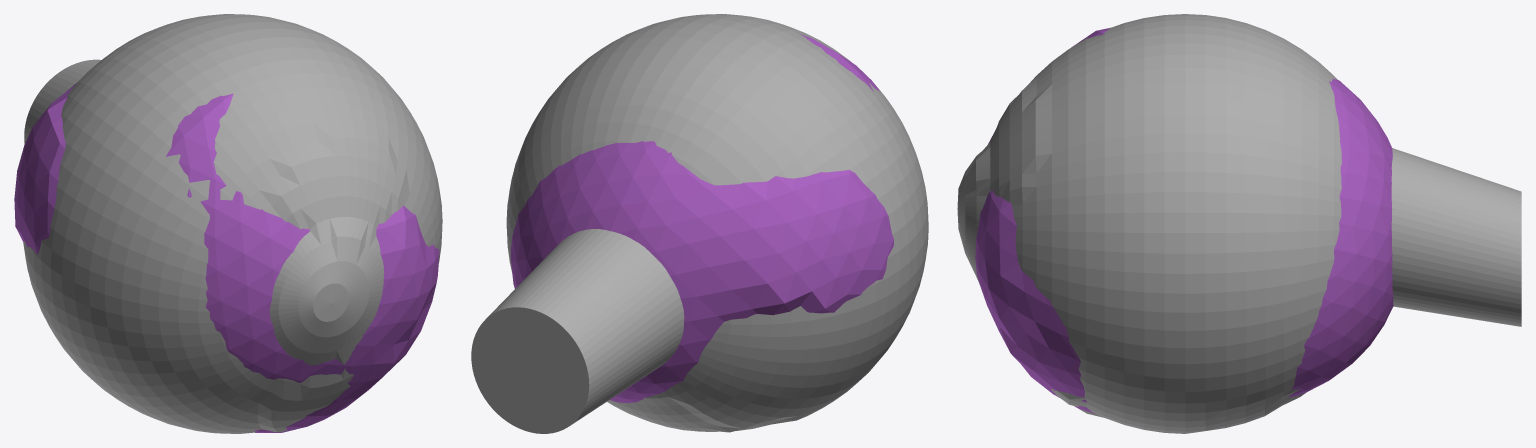
File: G01_A3_ALIGNED_GT.glb
3 views of the same model, side by side, from view 1: azimuth 30°, elevation 25°; view 2: azimuth 150°, elevation 25°; view 3: azimuth 270°, elevation 25° (orthographic).
Parts seen in each view (by area): view 1: Independent_GT, A3; view 2: Independent_GT, A3; view 3: Independent_GT, A3.
Part boxes in pixels (box(x1,y1,x2,y2)): Independent_GT: box(23, 14, 442, 433); A3: box(14, 83, 439, 432); Independent_GT: box(471, 14, 928, 433); A3: box(510, 34, 893, 402); Independent_GT: box(957, 14, 1521, 433); A3: box(975, 27, 1393, 413).
Size of the model in its own units: 0.012 by 0.012 by 0.0161.
